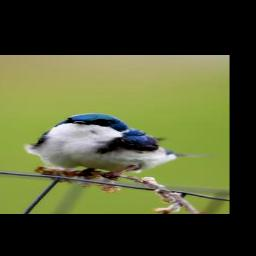Swallow: (22, 113, 219, 181)
